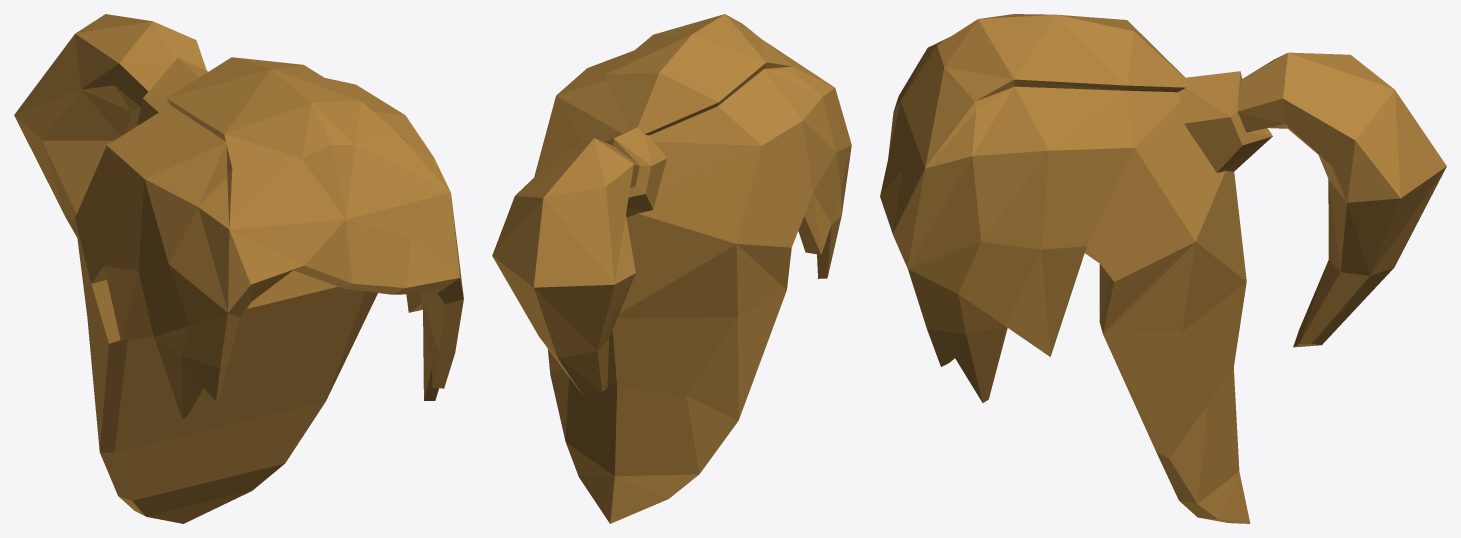
File: SM_Chr_Attach_Female_Hair_01.fbx
The picture shows the model from 3 angles, left to right: view 1: azimuth 30°, elevation 25°; view 2: azimuth 150°, elevation 25°; view 3: azimuth 270°, elevation 25°; orthographic projection. The views are drawn at different scales.
Visible parts, largest first — view 1: SM_Chr_Attach_Female_Hair_01; view 2: SM_Chr_Attach_Female_Hair_01; view 3: SM_Chr_Attach_Female_Hair_01.
Boxes of the visible parts, x1=… form: SM_Chr_Attach_Female_Hair_01: x1=14, y1=14, x2=463, y2=523; SM_Chr_Attach_Female_Hair_01: x1=492, y1=14, x2=851, y2=523; SM_Chr_Attach_Female_Hair_01: x1=880, y1=14, x2=1446, y2=523.
Bounding box in the file's own units: 0.2609 × 0.4223 × 0.4261.
